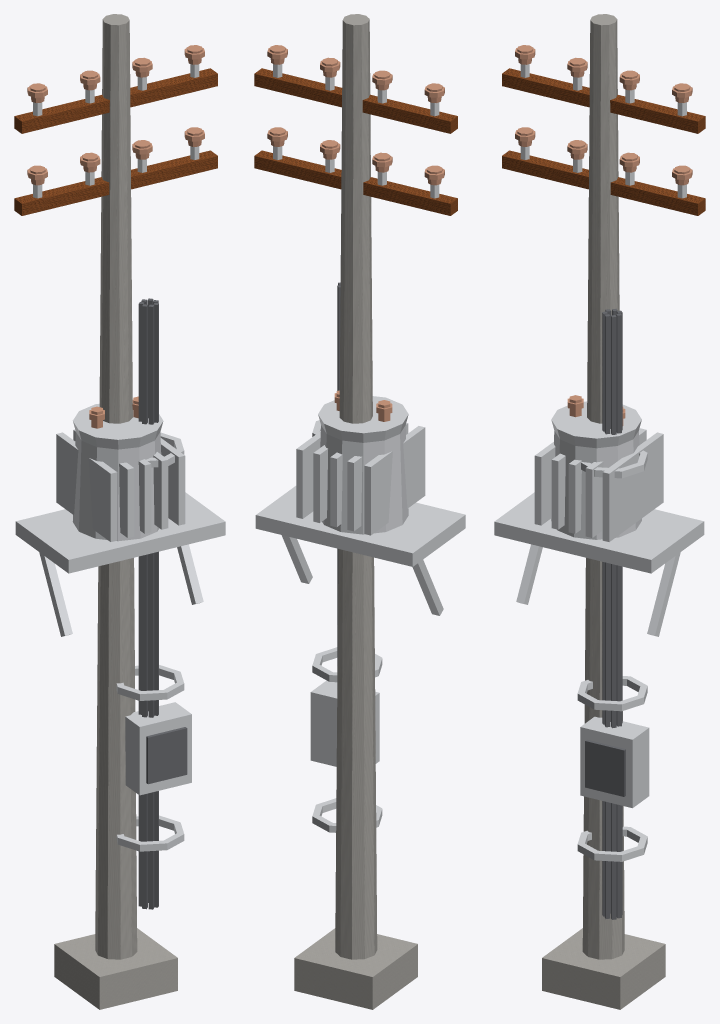
File: utility-pole.glb
3 views of the same model, side by side, from view 1: azimuth 30°, elevation 25°; view 2: azimuth 150°, elevation 25°; view 3: azimuth 330°, elevation 25° (orthographic).
Parts seen in each view (by area): view 1: utility-pole-with-transformer-stone, utility-pole-with-transformer-steel, utility-pole-with-transformer-charcoal, utility-pole-with-transformer-timber, utility-pole-with-transformer-terracotta; view 2: utility-pole-with-transformer-stone, utility-pole-with-transformer-steel, utility-pole-with-transformer-timber, utility-pole-with-transformer-terracotta, utility-pole-with-transformer-charcoal; view 3: utility-pole-with-transformer-steel, utility-pole-with-transformer-stone, utility-pole-with-transformer-charcoal, utility-pole-with-transformer-timber, utility-pole-with-transformer-terracotta.
Boxes of the visible parts, x1,y1,x2,y2 form: utility-pole-with-transformer-stone: [54, 14, 177, 1009]; utility-pole-with-transformer-steel: [15, 64, 225, 851]; utility-pole-with-transformer-charcoal: [138, 298, 187, 909]; utility-pole-with-transformer-timber: [14, 68, 217, 215]; utility-pole-with-transformer-terracotta: [27, 45, 204, 428]; utility-pole-with-transformer-stone: [294, 14, 417, 1009]; utility-pole-with-transformer-steel: [255, 64, 465, 832]; utility-pole-with-transformer-timber: [254, 68, 457, 215]; utility-pole-with-transformer-terracotta: [267, 45, 444, 421]; utility-pole-with-transformer-charcoal: [337, 282, 340, 665]; utility-pole-with-transformer-steel: [494, 64, 704, 861]; utility-pole-with-transformer-stone: [542, 14, 665, 1009]; utility-pole-with-transformer-charcoal: [585, 308, 625, 919]; utility-pole-with-transformer-timber: [502, 68, 705, 215]; utility-pole-with-transformer-terracotta: [515, 45, 692, 425].
Size of the model in its own units: 1.5 by 7.04 by 0.7198.
Materials: 5 (2 with a texture image).
